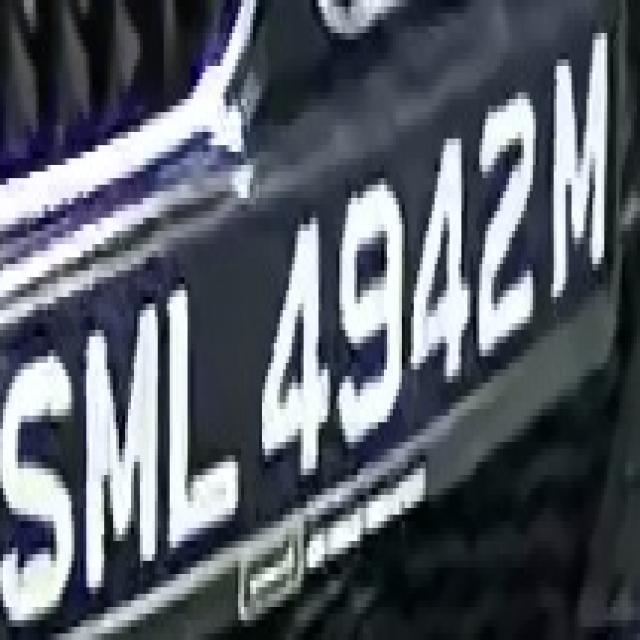2: (470, 79, 545, 376)
4: (232, 185, 328, 495), (411, 112, 482, 383)
9: (330, 145, 405, 455)
L: (164, 258, 241, 554)
M: (539, 26, 628, 343), (80, 304, 167, 587)
